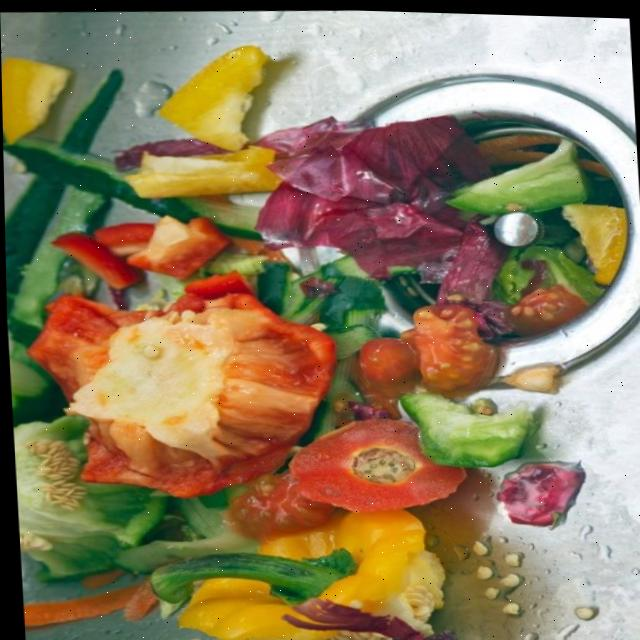Wet: (18, 260, 344, 503), (139, 488, 448, 640), (9, 398, 172, 583), (283, 412, 466, 516), (438, 127, 587, 218), (157, 40, 274, 152), (392, 385, 532, 470), (403, 295, 502, 396), (118, 140, 283, 200), (118, 205, 238, 284), (1, 43, 75, 148), (489, 455, 588, 526), (557, 196, 632, 286), (19, 580, 159, 627)
